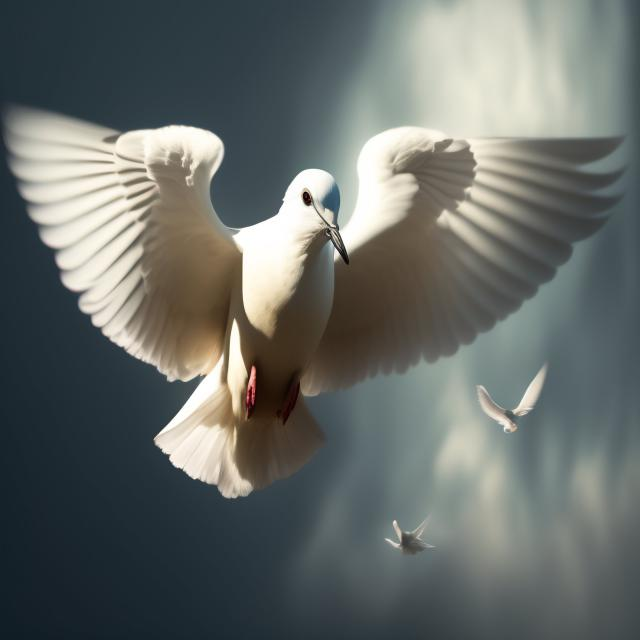pigeon: (0, 92, 639, 518)
